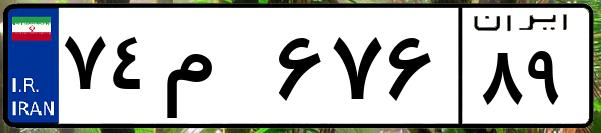4: (110, 28, 158, 98)
6: (270, 28, 330, 110), (385, 28, 445, 110)
7: (330, 28, 385, 110), (57, 26, 110, 100)
8: (475, 38, 525, 113)
9: (525, 38, 570, 115)
م: (158, 20, 270, 120)
